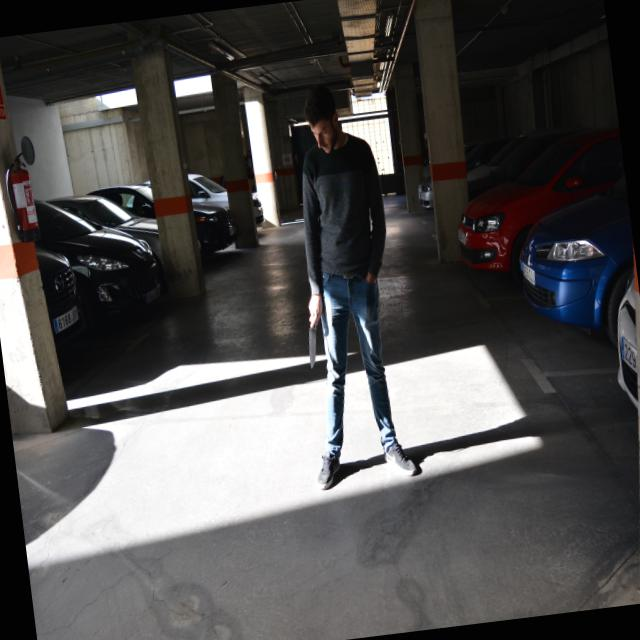knife: (302, 315, 323, 372)
